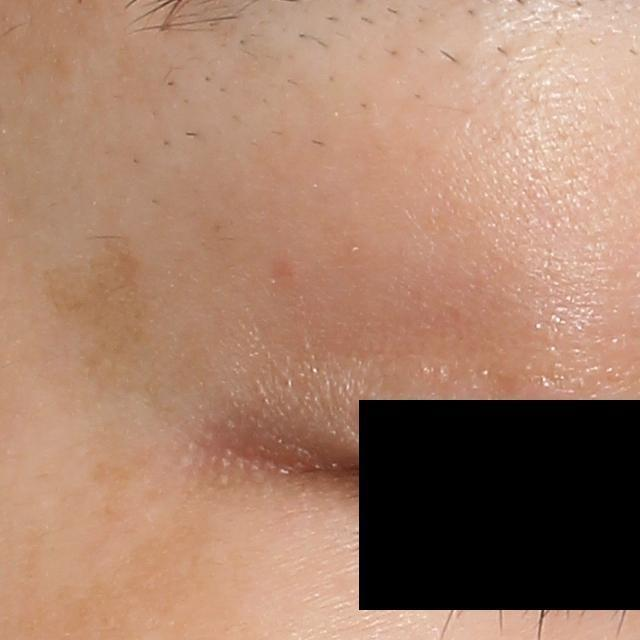melasma: (40, 253, 147, 382)
